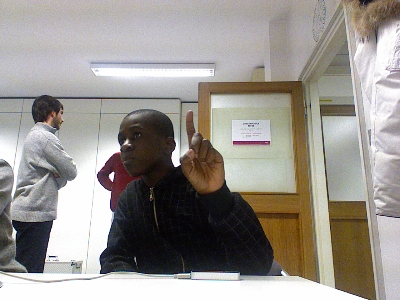食指: (179, 109, 226, 196)
